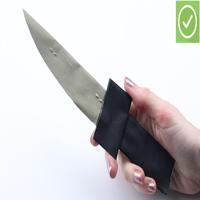knife: (19, 6, 179, 189)
